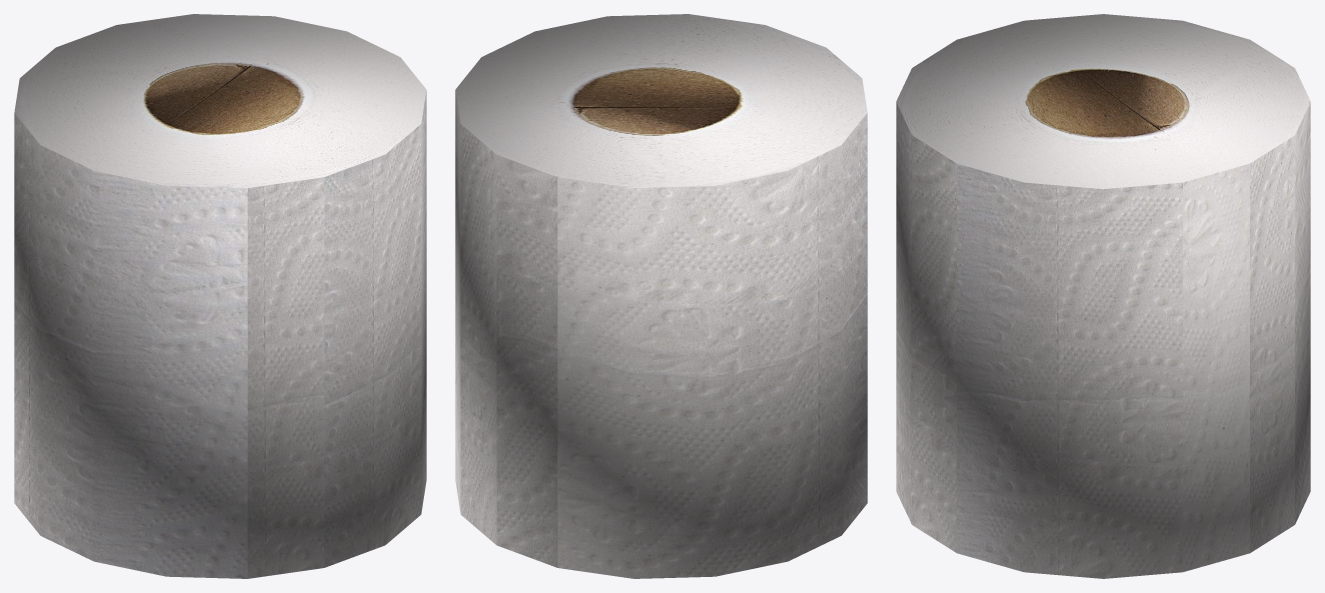
The model's file is toilet-paper-roll.glb.
3 views of the same model, side by side, from view 1: azimuth 30°, elevation 25°; view 2: azimuth 150°, elevation 25°; view 3: azimuth 270°, elevation 25° (orthographic).
Parts seen in each view (by area): view 1: ToiletPaperRoll; view 2: ToiletPaperRoll; view 3: ToiletPaperRoll.
Part boxes in pixels (x1=…): ToiletPaperRoll: x1=14, y1=14, x2=426, y2=578; ToiletPaperRoll: x1=455, y1=14, x2=867, y2=578; ToiletPaperRoll: x1=896, y1=14, x2=1310, y2=578.
Bounding box in the file's own units: 1.53 × 1.58 × 1.53.
1 material, 1 textured.
